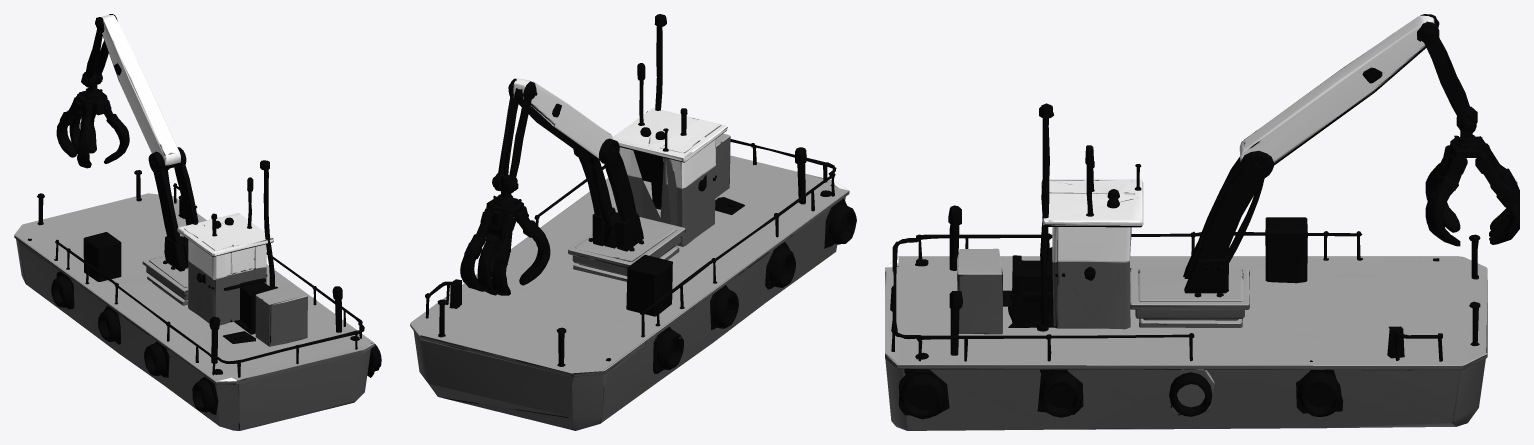
File: mud-dredger.glb
The picture shows the model from 3 angles, left to right: view 1: azimuth 30°, elevation 25°; view 2: azimuth 150°, elevation 25°; view 3: azimuth 270°, elevation 25°; orthographic projection. The views are drawn at different scales.
Visible parts, largest first — view 1: mud-dredger; view 2: mud-dredger; view 3: mud-dredger.
Boxes of the visible parts, box(x1,y1,x2,y2) form: mud-dredger: box(14, 14, 381, 430); mud-dredger: box(410, 14, 856, 430); mud-dredger: box(885, 14, 1519, 430).
Size of the model in its own units: 4.5 by 6.41 by 10.
1 material, 1 textured.
